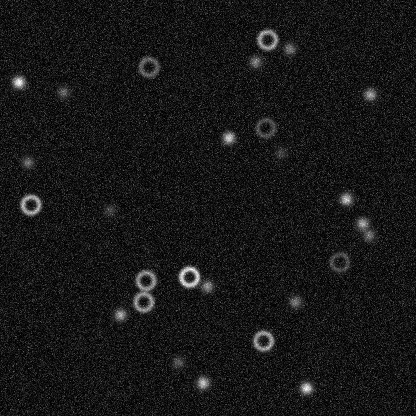Ring: (251, 328, 275, 352), (136, 54, 160, 78), (253, 115, 277, 139), (133, 268, 157, 292), (177, 264, 201, 288), (18, 192, 42, 216), (255, 27, 279, 51), (327, 249, 351, 273), (131, 289, 155, 313)
Spot: (10, 74, 26, 90), (247, 53, 263, 69), (360, 227, 376, 243), (281, 40, 297, 56), (287, 293, 303, 309), (101, 201, 117, 217), (19, 154, 35, 170), (55, 84, 71, 100), (362, 86, 378, 102), (199, 278, 215, 294), (337, 190, 353, 206), (112, 306, 128, 322), (298, 379, 314, 395), (194, 374, 210, 390), (220, 129, 236, 145), (354, 215, 370, 231), (272, 144, 288, 160), (170, 354, 186, 370)
